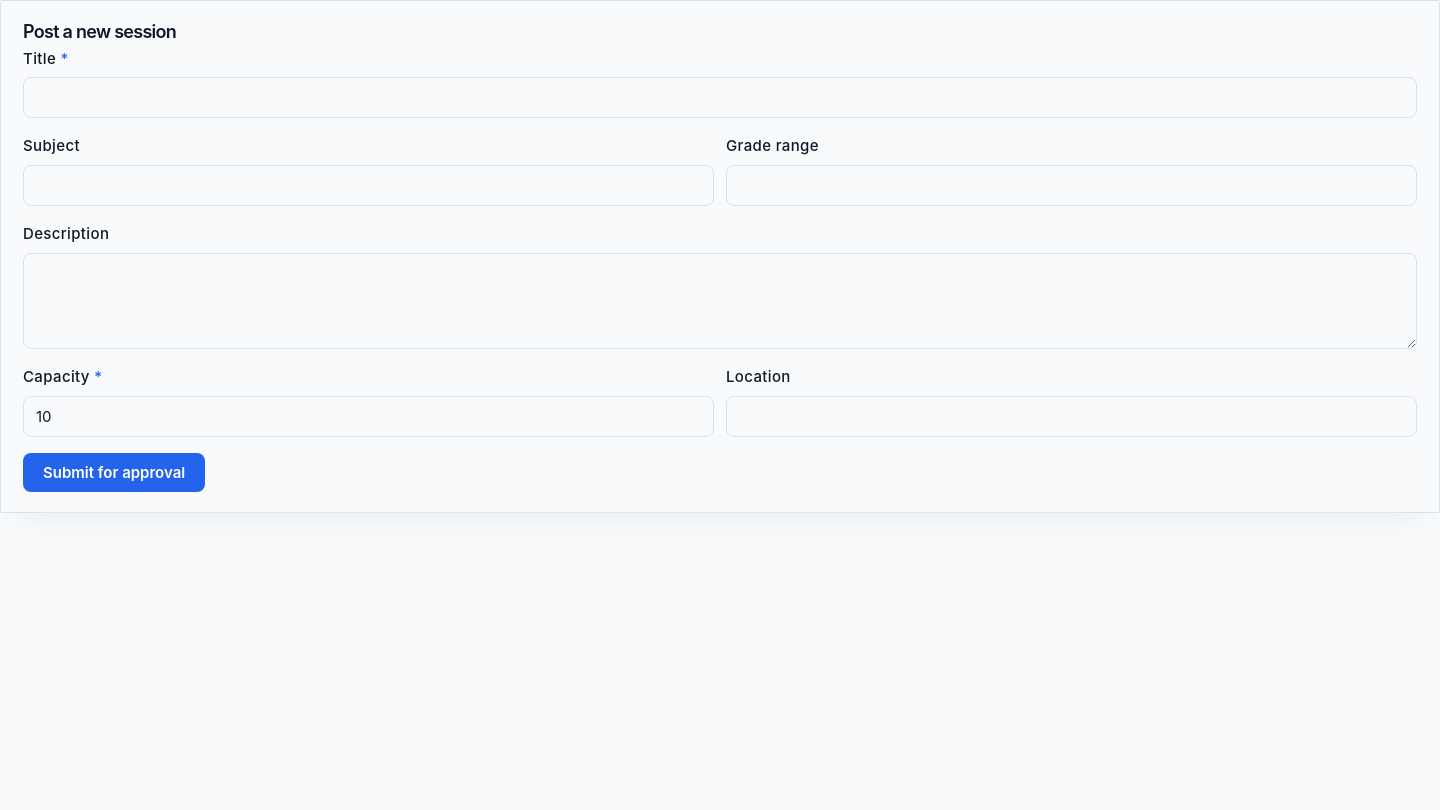
Test: SectionForm › rejects a negative capacity
In the field labelled "Title *": (720, 98) [23,77,1417,118], type "My Class"
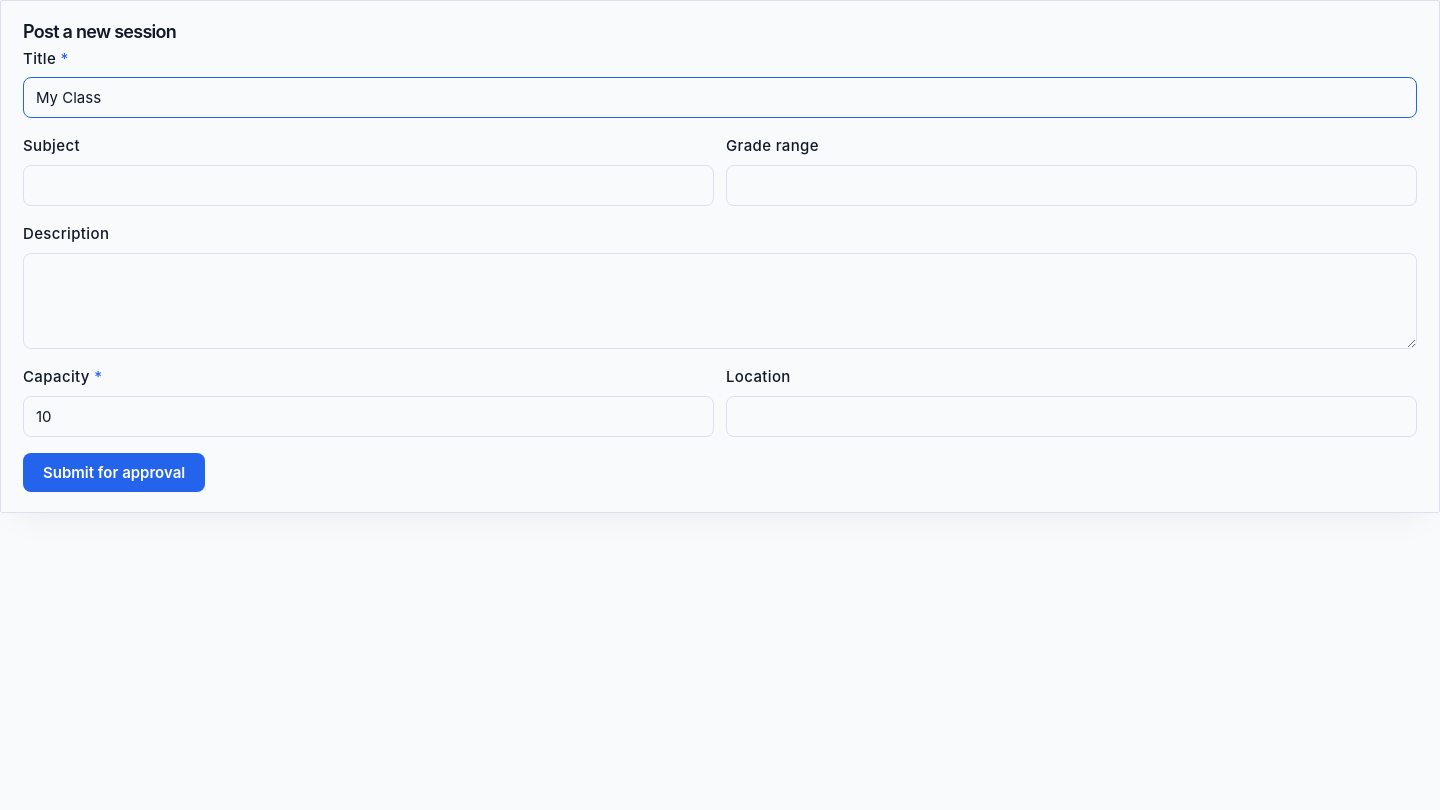
Replace the text in the number field labelled "Capacity *" with "-3": (368, 416) [23,396,714,437]
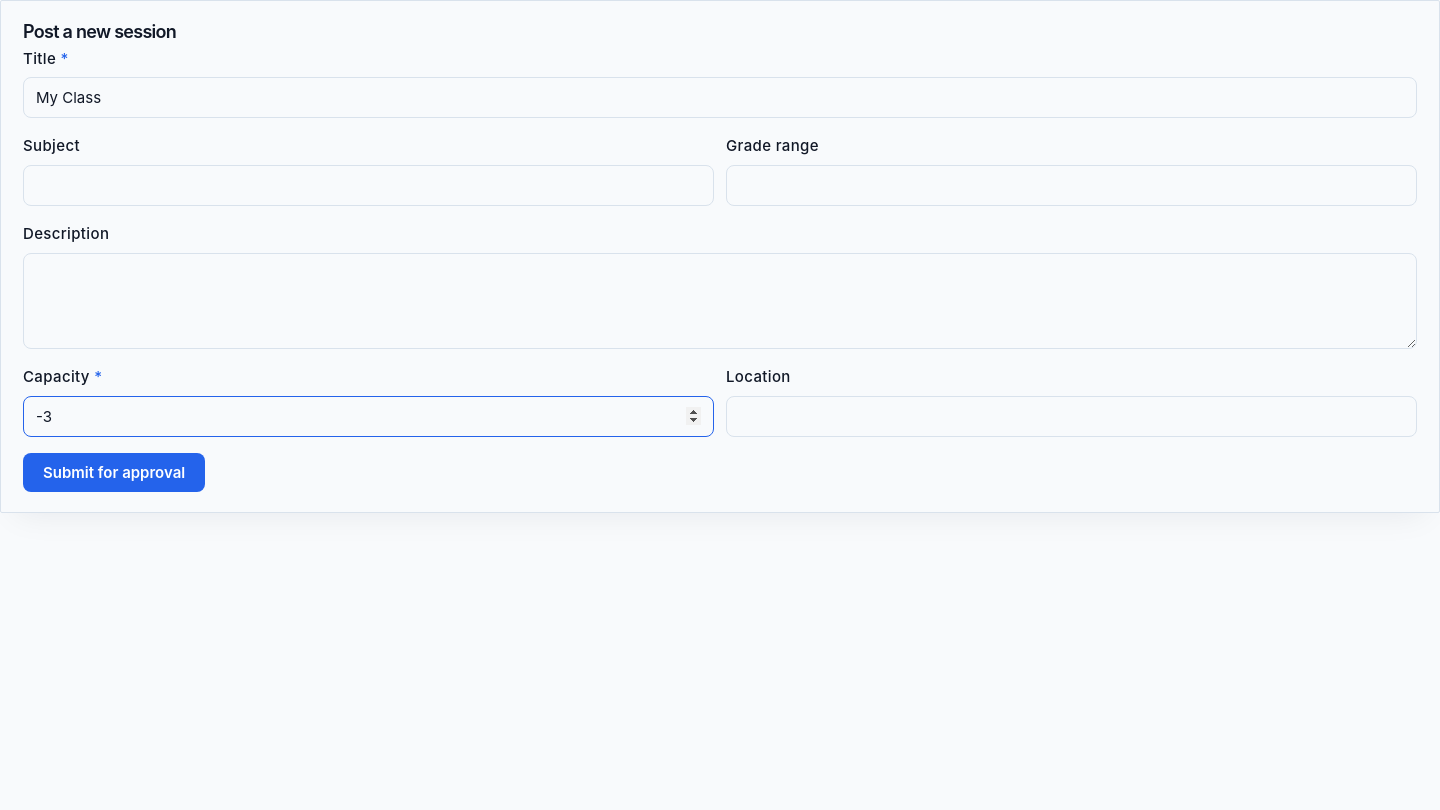
Click the button "Submit for approval": (114, 472) [23,453,205,492]
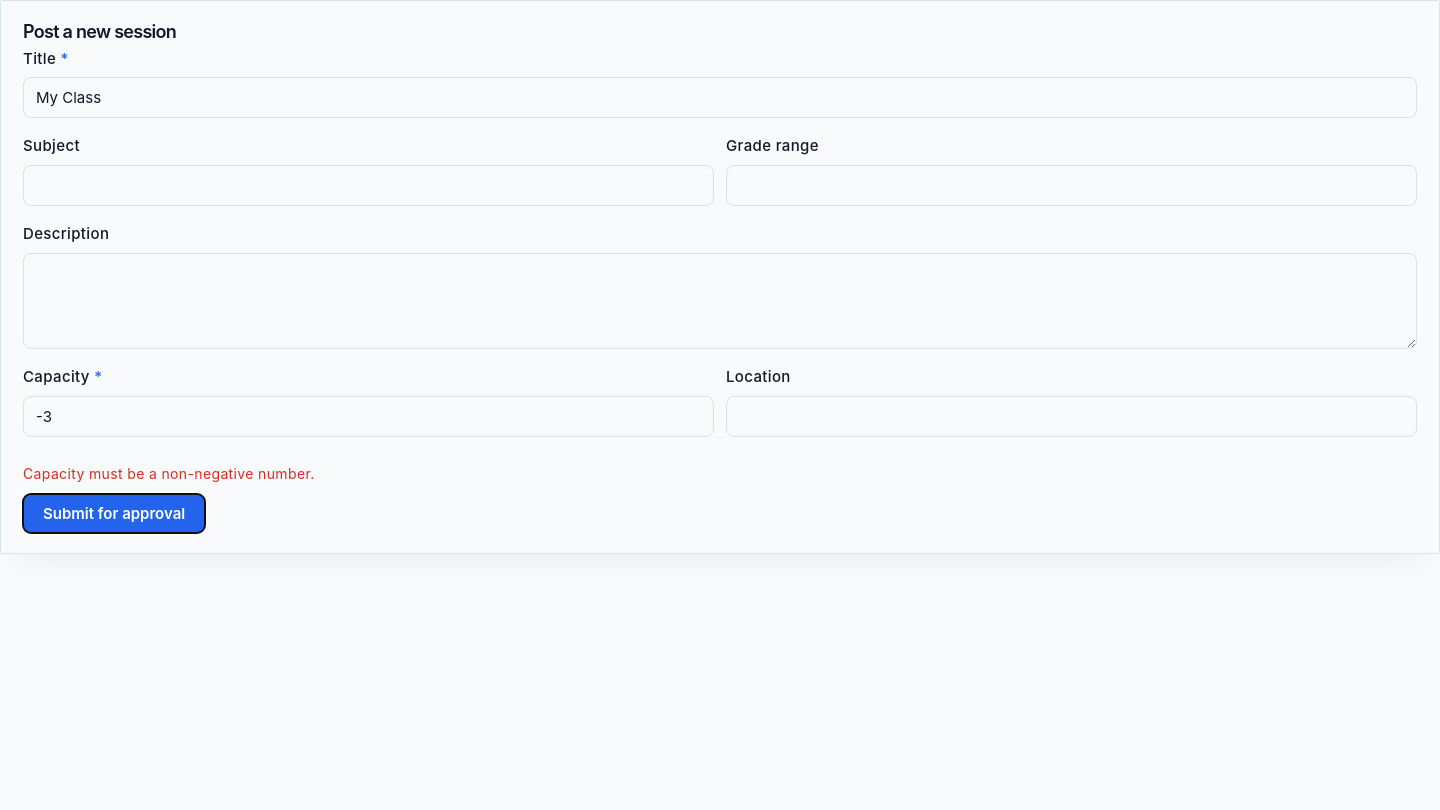
Expected: the text "Capacity must be a non-negative number." is shown, [23,465,315,482]
